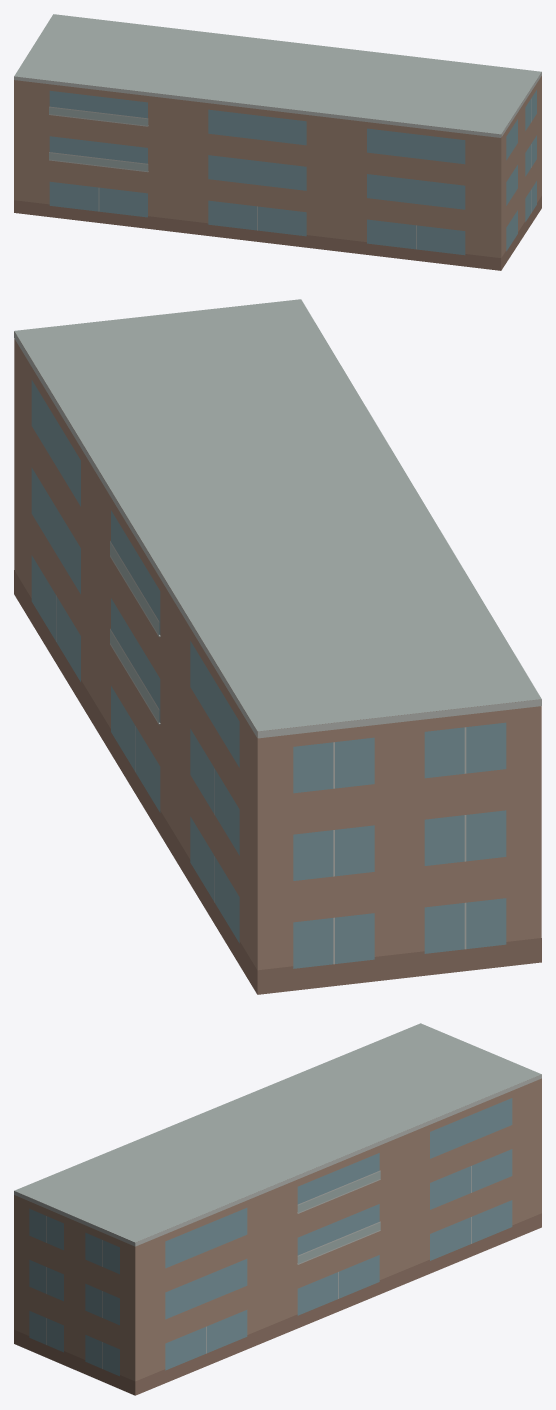
File: survey-upis-32678598.glb
3 views of the same model, one above another, from view 1: azimuth 30°, elevation 25°; view 2: azimuth 150°, elevation 25°; view 3: azimuth 270°, elevation 25° (orthographic). The views are drawn at different scales.
Visible parts, largest first — view 1: survey-upis-32678598.tmp; view 2: survey-upis-32678598.tmp; view 3: survey-upis-32678598.tmp.
Boxes of the visible parts, x1,y1,x2,y2 form: survey-upis-32678598.tmp: (14, 14, 541, 270); survey-upis-32678598.tmp: (14, 299, 541, 994); survey-upis-32678598.tmp: (14, 1023, 541, 1395).
Bounding box in the file's own units: 28.12 × 9.15 × 28.6.
